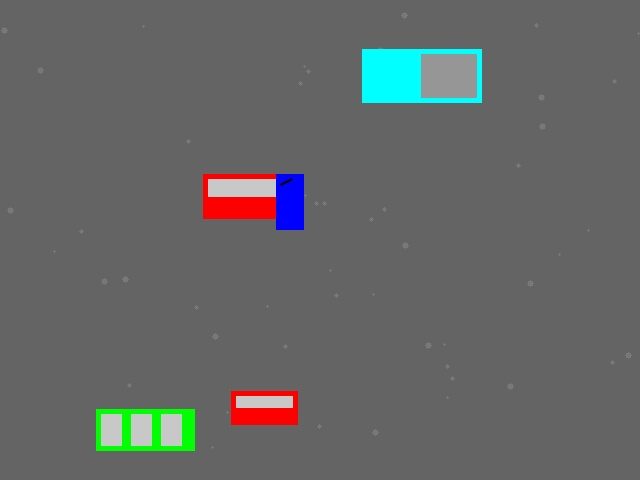bus: (96, 409, 194, 450)
car: (203, 174, 291, 218), (231, 391, 297, 424)
motorcycle: (276, 174, 303, 229)
truck: (362, 49, 481, 102)
